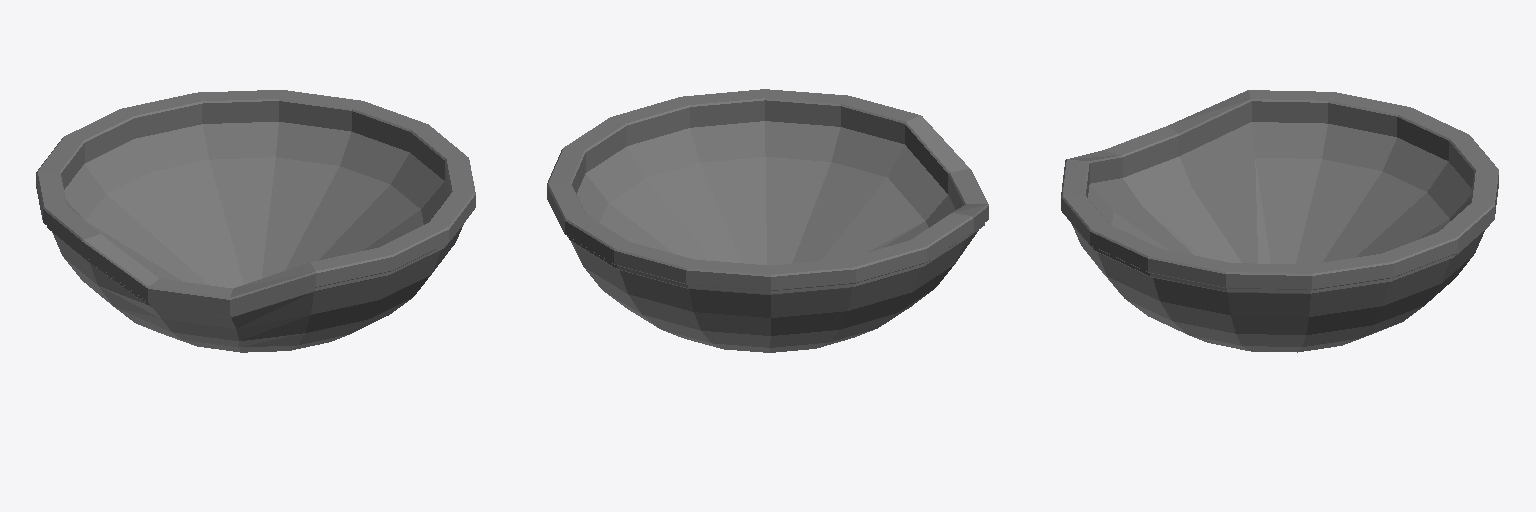
The model's file is GriffinNest.obj.
3 renders of one model, left to right at view 1: azimuth 30°, elevation 25°; view 2: azimuth 150°, elevation 25°; view 3: azimuth 270°, elevation 25°, orthographic.
Parts seen in each view (by area): view 1: Griffen_Nest_Rough1:pSphere1; view 2: Griffen_Nest_Rough1:pSphere1; view 3: Griffen_Nest_Rough1:pSphere1.
Part boxes in pixels (bbox=[...]): Griffen_Nest_Rough1:pSphere1: bbox=[36, 90, 475, 352]; Griffen_Nest_Rough1:pSphere1: bbox=[547, 89, 988, 352]; Griffen_Nest_Rough1:pSphere1: bbox=[1061, 90, 1498, 352].
Size of the model in its own units: 1324 by 494 by 1324.